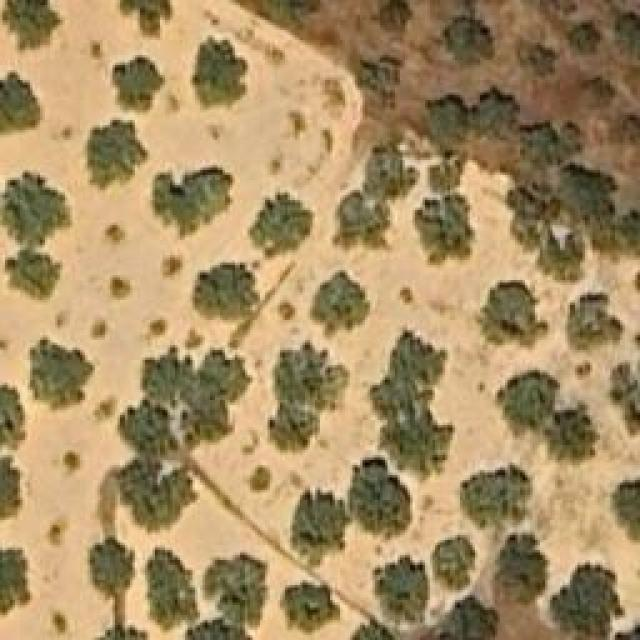Tree: (370, 328, 445, 415), (150, 168, 235, 241), (115, 458, 194, 532), (460, 463, 530, 546), (268, 342, 352, 411), (550, 562, 623, 640), (0, 172, 70, 247), (83, 120, 153, 190), (478, 280, 548, 350), (28, 335, 93, 410), (350, 458, 410, 538), (415, 190, 483, 260), (140, 548, 199, 628), (375, 415, 451, 474), (203, 553, 268, 620), (407, 597, 507, 640), (292, 493, 350, 566), (310, 270, 370, 340), (0, 50, 40, 148), (250, 193, 310, 256), (193, 38, 246, 108), (495, 535, 548, 605), (498, 370, 558, 430), (280, 580, 340, 640), (548, 400, 603, 463), (555, 168, 616, 224), (0, 0, 62, 55), (508, 172, 556, 242), (110, 55, 165, 115), (120, 400, 177, 456), (568, 292, 623, 350), (85, 535, 135, 598), (336, 193, 388, 253), (195, 265, 258, 313), (358, 138, 414, 191), (5, 248, 60, 300), (605, 355, 640, 435), (143, 348, 191, 402), (268, 408, 318, 458), (360, 53, 408, 105), (0, 540, 30, 620), (433, 535, 476, 590), (475, 85, 522, 135), (523, 123, 576, 166), (180, 612, 253, 640), (428, 100, 468, 148), (612, 478, 640, 541), (120, 0, 170, 35), (450, 20, 490, 63), (608, 8, 640, 58), (523, 33, 561, 75), (373, 0, 416, 37), (565, 15, 603, 56), (583, 75, 618, 114), (0, 455, 20, 520), (612, 200, 640, 245), (0, 390, 22, 447), (255, 0, 323, 18), (98, 220, 128, 253), (45, 515, 70, 548), (245, 465, 273, 493), (50, 610, 73, 640), (143, 315, 170, 339), (90, 318, 110, 341), (398, 288, 418, 311), (277, 295, 295, 320), (615, 622, 640, 640), (110, 278, 130, 298), (163, 258, 183, 278)
